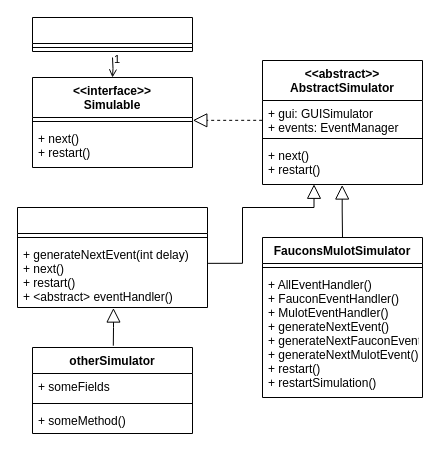
Image size: 446x454. Some labels were removed from this diagram. The box of each missing label's shape, as (x1, y1, x2, y2) in pixels:
GUISImulator: (32, 16, 192, 52)
SingleEventSImulator: (16, 206, 208, 308)
